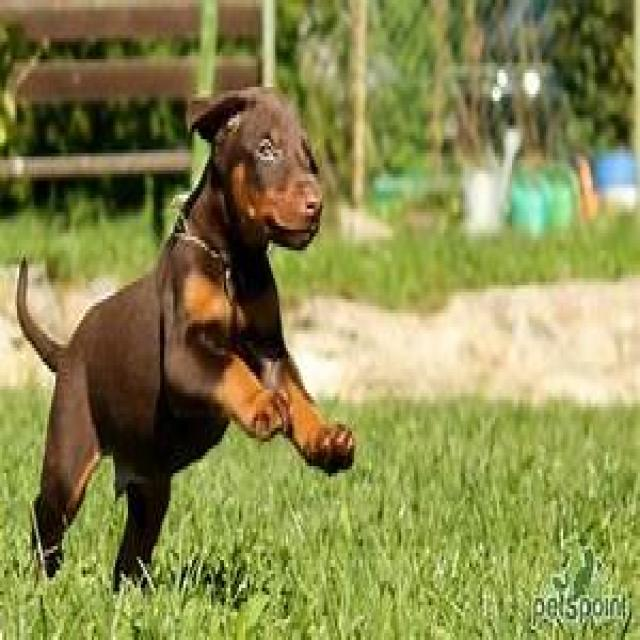dog: (13, 80, 356, 595)
